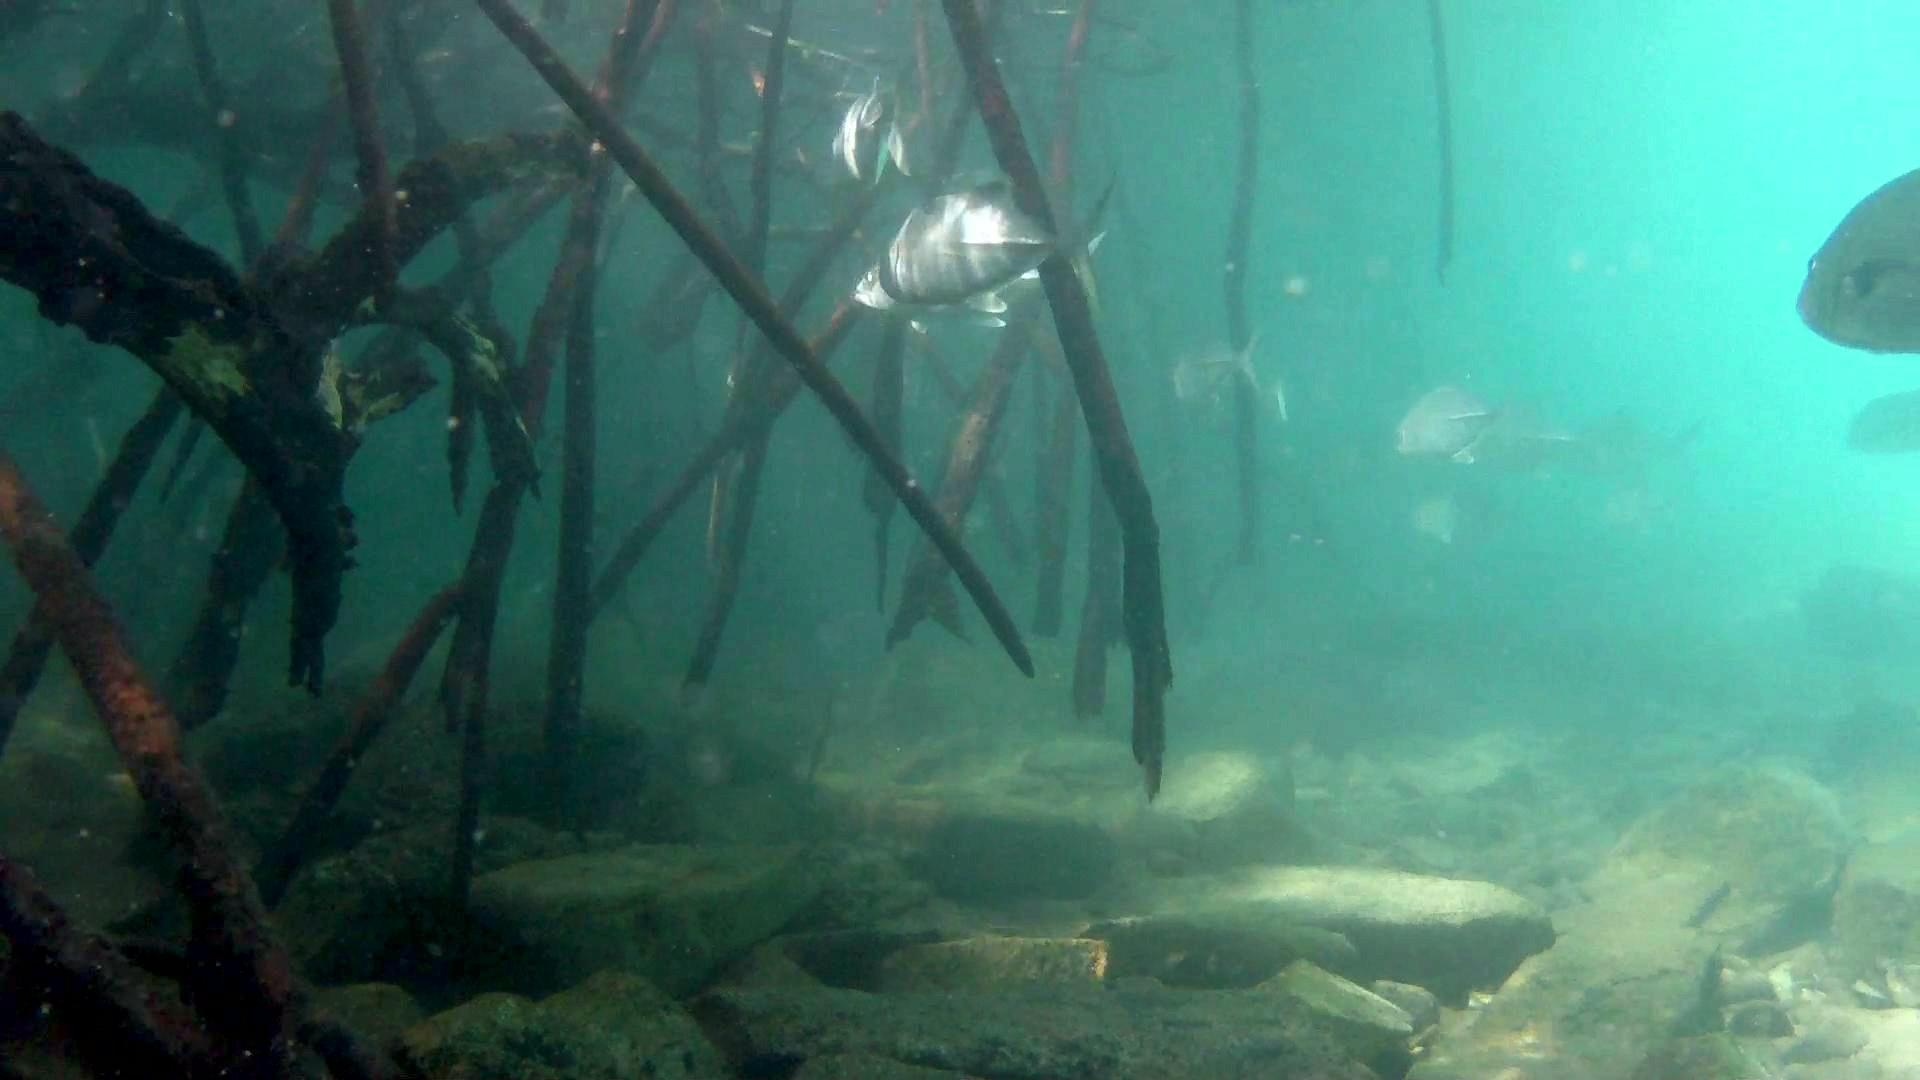caranx: (872, 166, 1133, 324), (1780, 145, 1920, 373)
